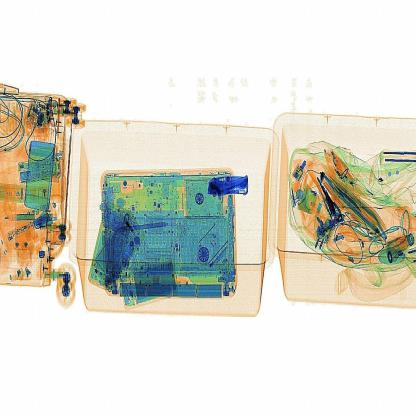knife: (204, 167, 255, 202)
